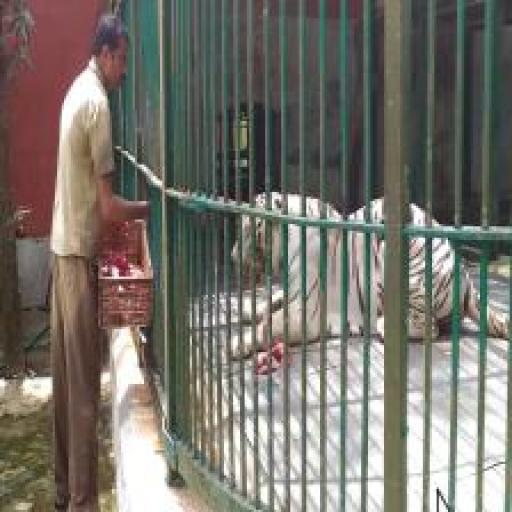Tiger: (231, 190, 512, 363)
